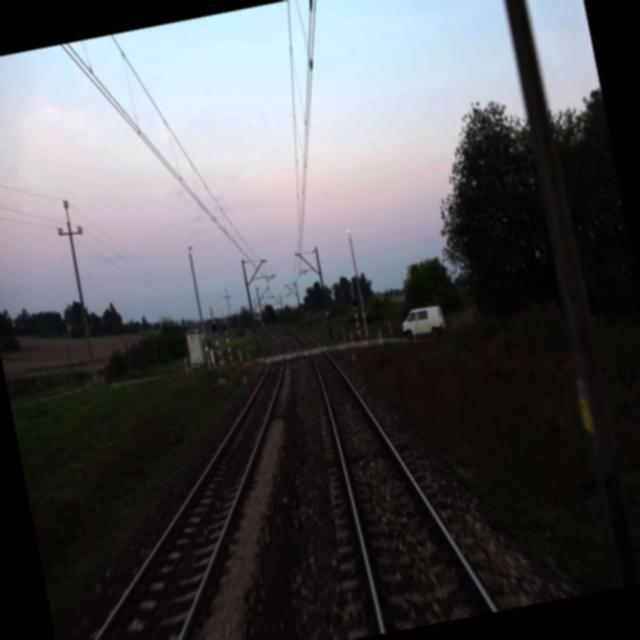rail: (274, 324, 553, 636)
